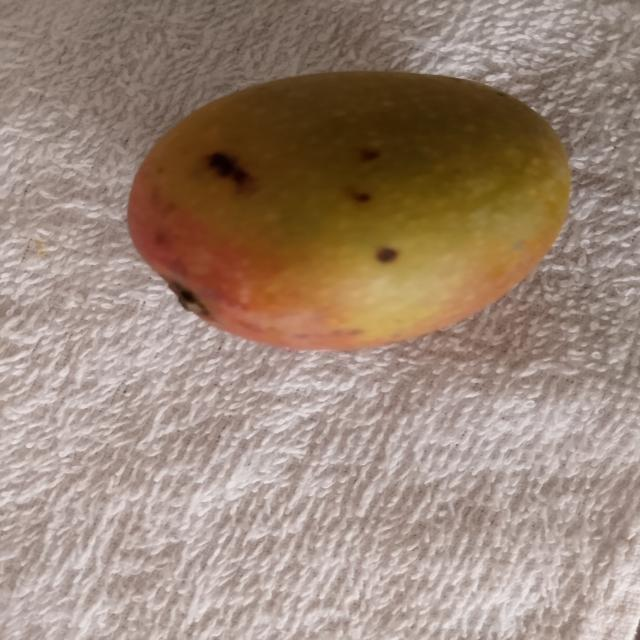mango: (129, 73, 569, 348)
